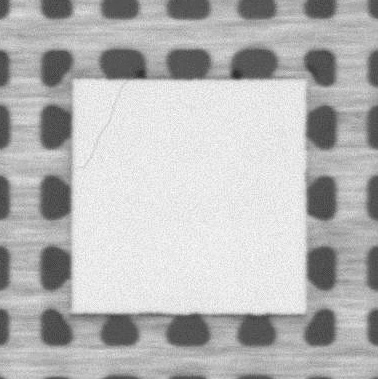DIE_CRACK: (76, 80, 129, 172)
